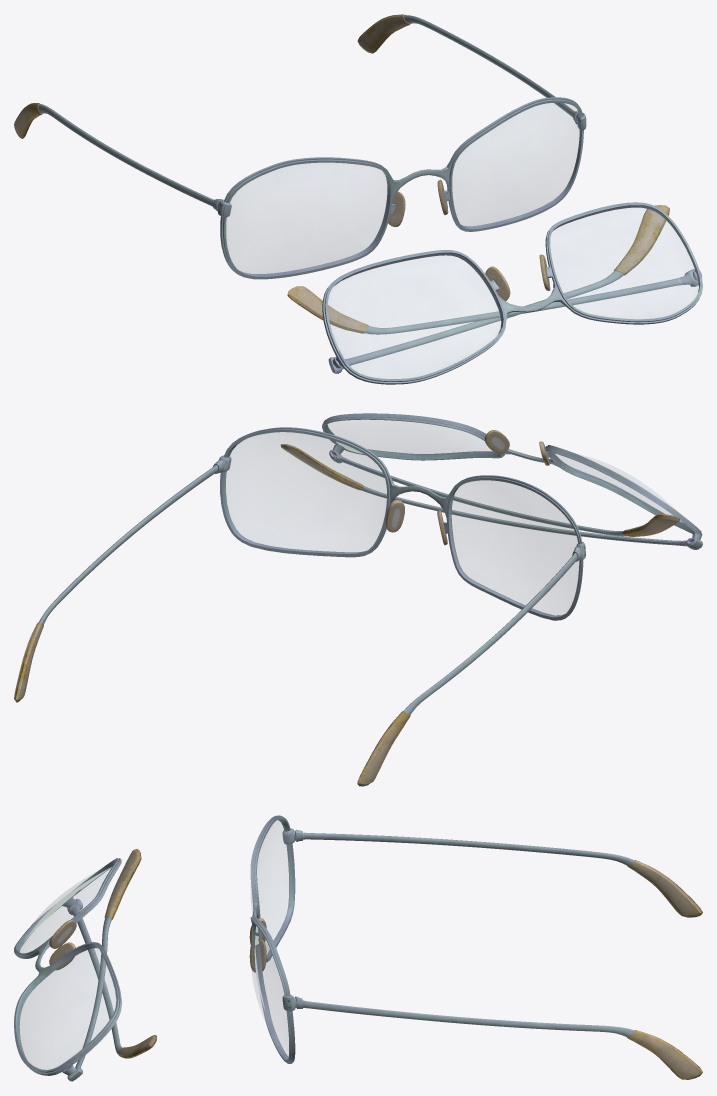
The model's file is eyeglasses_-_occhiali.glb.
3 renders of one model, top to bottom at view 1: azimuth 30°, elevation 25°; view 2: azimuth 150°, elevation 25°; view 3: azimuth 270°, elevation 25°, orthographic. The views are drawn at different scales.
Parts seen in each view (by area): view 1: Occhiali_my_Chiusi_Occhiali_my__0, Occhiali_my_ID; view 2: Occhiali_my_ID, Occhiali_my_Chiusi_Occhiali_my__0; view 3: Occhiali_my_Chiusi_Occhiali_my__0, Occhiali_my_ID.
Boxes of the visible parts, x1,y1,x2,y2 form: Occhiali_my_Chiusi_Occhiali_my__0: (287,202,702,384); Occhiali_my_ID: (14,14,586,279); Occhiali_my_ID: (14,427,585,786); Occhiali_my_Chiusi_Occhiali_my__0: (280,413,702,549); Occhiali_my_Chiusi_Occhiali_my__0: (14,849,156,1081); Occhiali_my_ID: (249,815,702,1079).
Size of the model in its own units: 0.7994 by 0.2508 by 1.28.
1 material, 1 textured.
